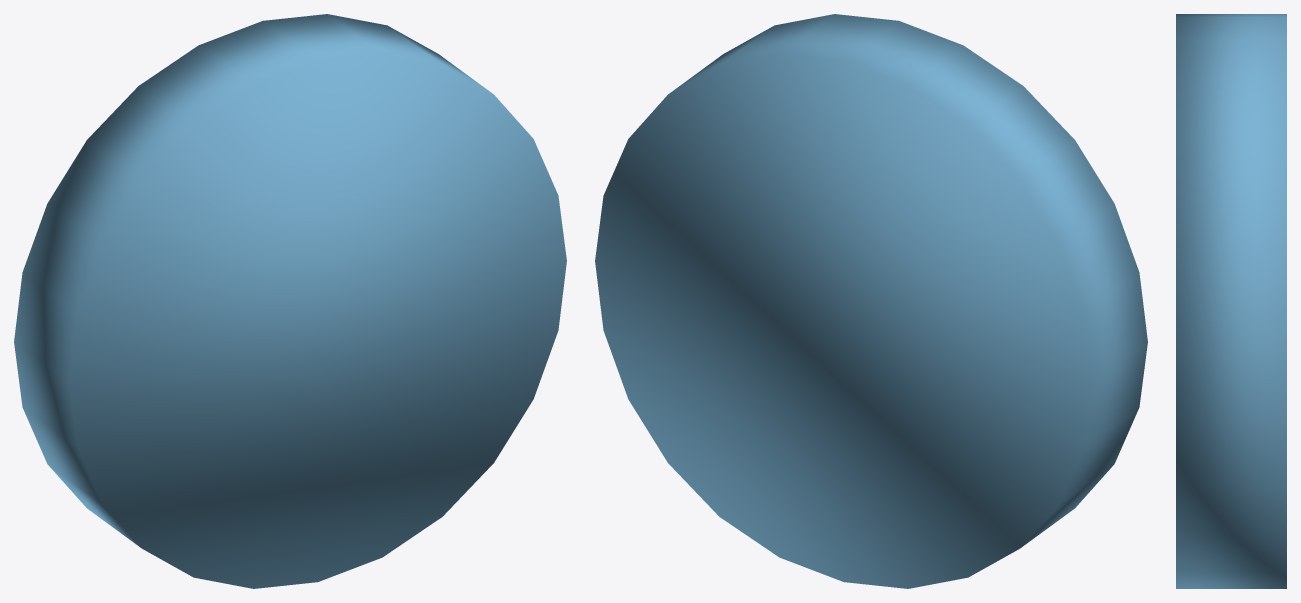
File: shape-circle-blue.glb
3 views of the same model, side by side, from view 1: azimuth 30°, elevation 25°; view 2: azimuth 150°, elevation 25°; view 3: azimuth 270°, elevation 25° (orthographic).
Parts seen in each view (by area): view 1: solid circle; view 2: solid circle; view 3: solid circle.
Boxes of the visible parts, x1,y1,x2,y2 form: solid circle: (14, 14, 566, 588); solid circle: (595, 14, 1147, 588); solid circle: (1176, 14, 1286, 588).
Size of the model in its own units: 1.3 by 1.3 by 0.25.
